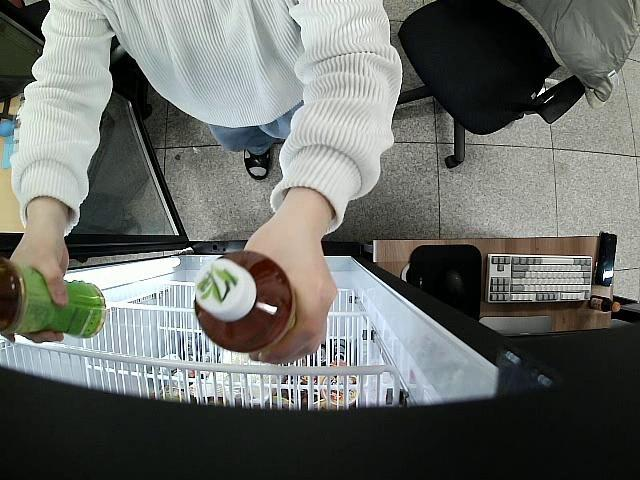19_17cha: (194, 251, 298, 354), (0, 258, 108, 340)
